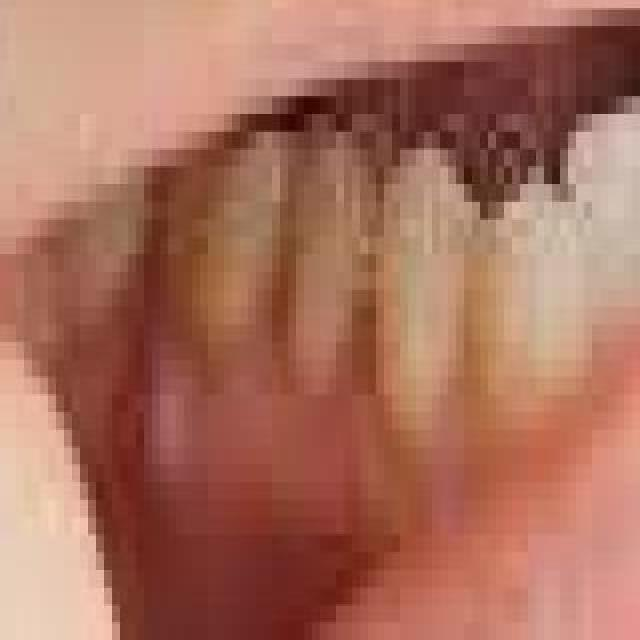maligned: (453, 188, 603, 432), (540, 96, 640, 336)
